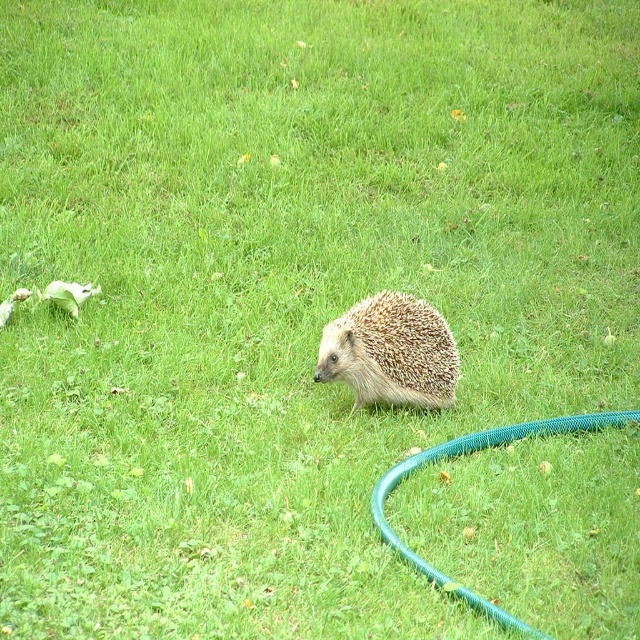Hedgehog: (312, 289, 463, 411)
